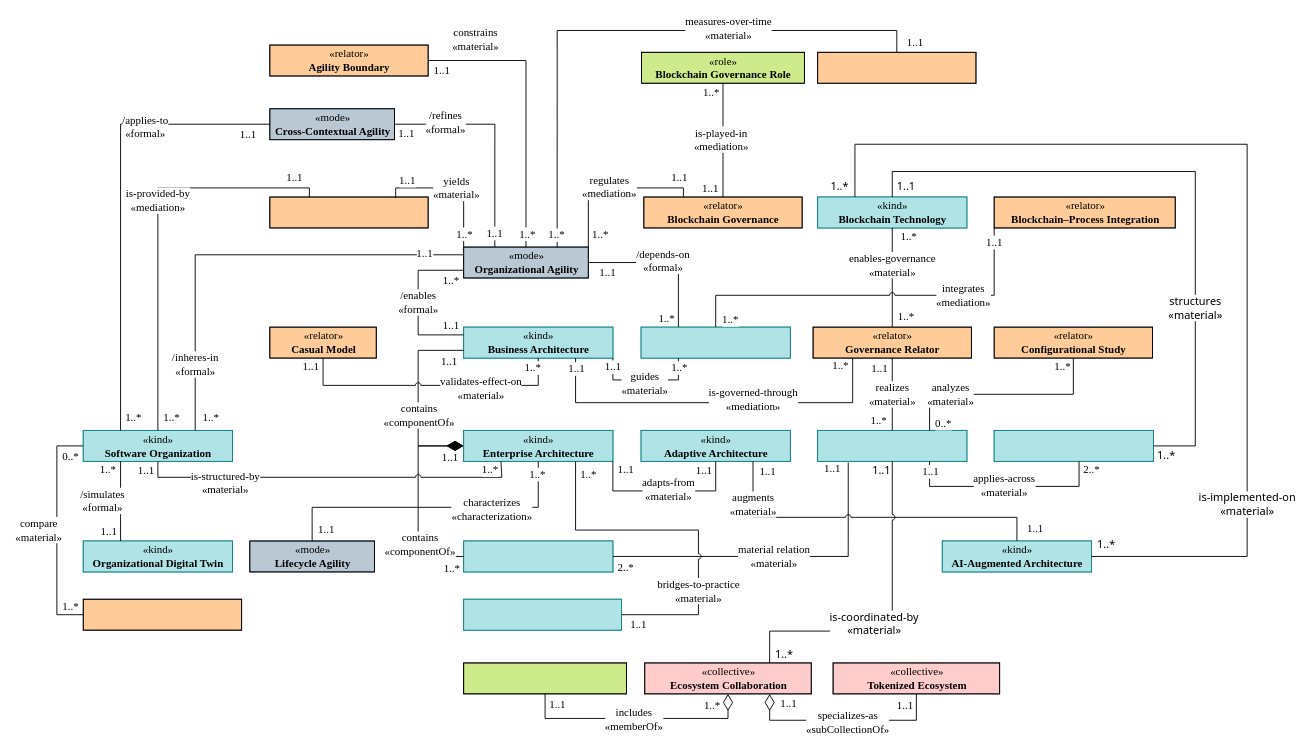
The diagram is 1311 pixels wide and 753 high, and some of its shapes have lost their labels. The shapes that lost their labels are listed below. From the top down, each one's centre as x and y in pixels, then its label:
At [896,67]: "«relator» Longitudinal Model".
At [348,212]: "«relator» Agility As-a-Service".
At [715,342]: "«kind» Process Innovation".
At [892,445]: "«kind» Governance Model".
At [1073,445]: "«kind» Multi-Layer Governance".
At [538,556]: "«kind» Architecture Layer".
At [162,614]: "«relator» Cross-sectional Study".
At [542,614]: "«kind» Translational EA".
At [545,678]: "«role» Ecosystem Role".
